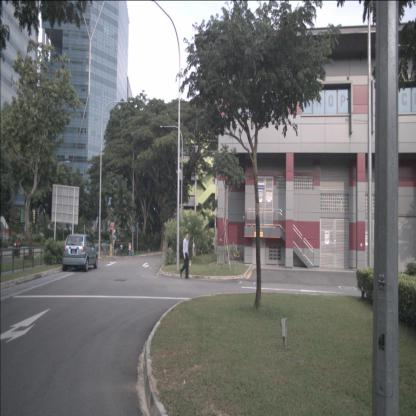human-pedestrian-adult: (180, 232, 189, 279), (100, 235, 104, 252), (114, 234, 117, 249)
vehicle-bicycle: (229, 244, 243, 260)
vehicle-car: (62, 233, 98, 272)
vehicle-motorcycle: (12, 236, 22, 258)
